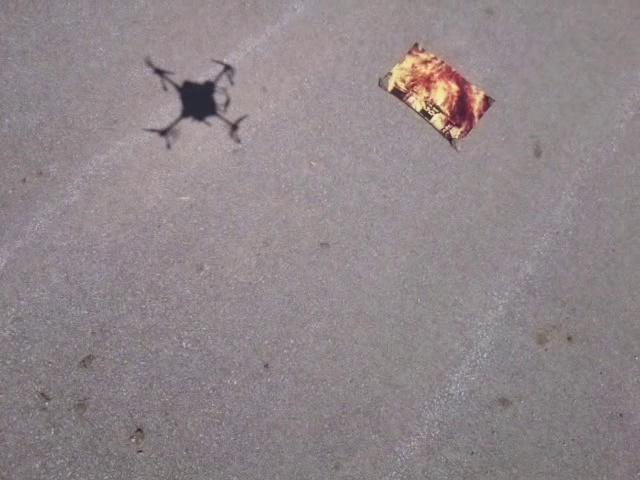fire-poster: (375, 39, 497, 153)
